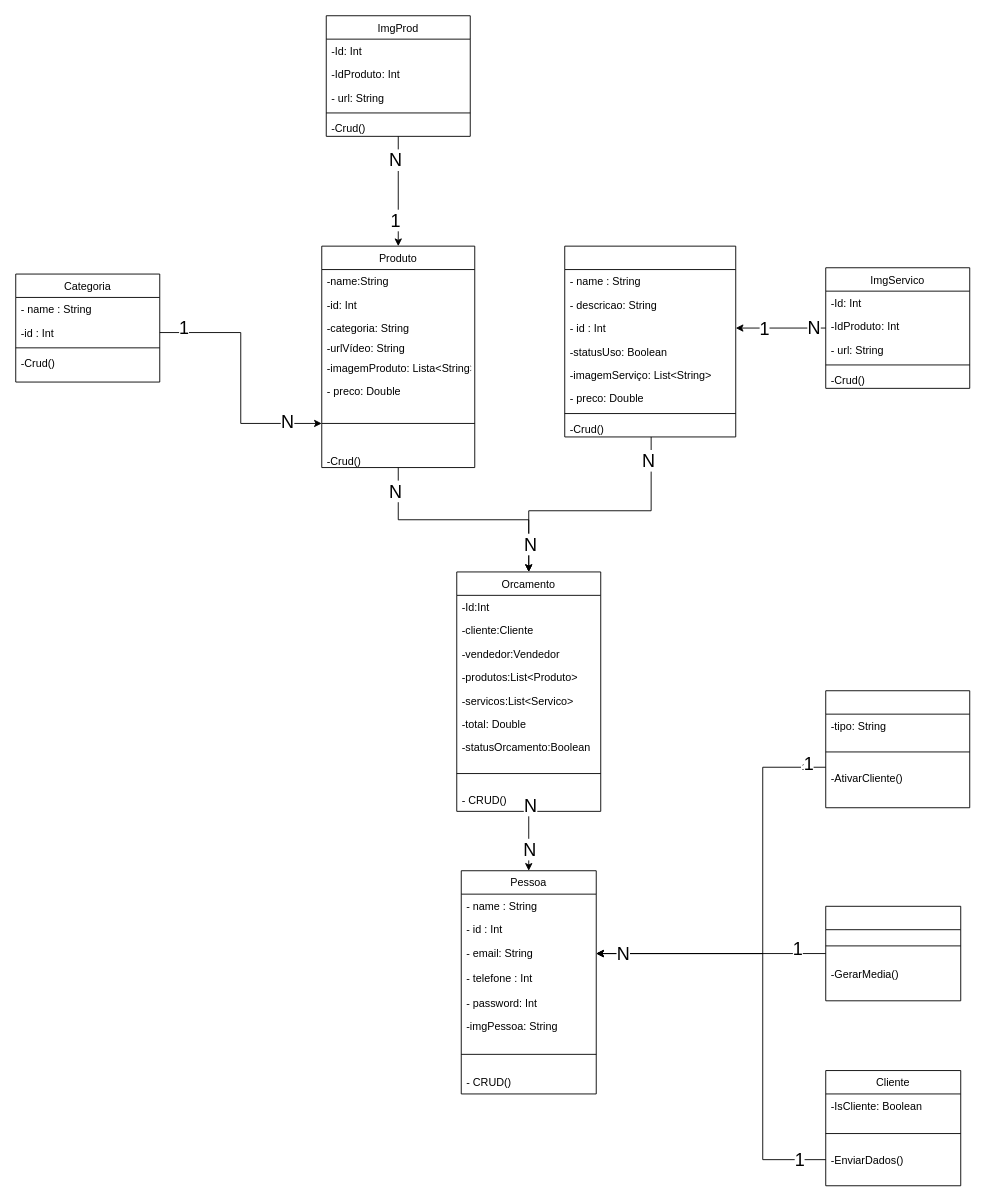
This 986x1202 diagram has some shape labels left out. Here are the shapes that lost their labels. From the top down, the box of each, then its label:
(564, 245, 736, 437): Servico
(825, 690, 970, 808): Vendedor
(825, 905, 961, 1001): Gestor
